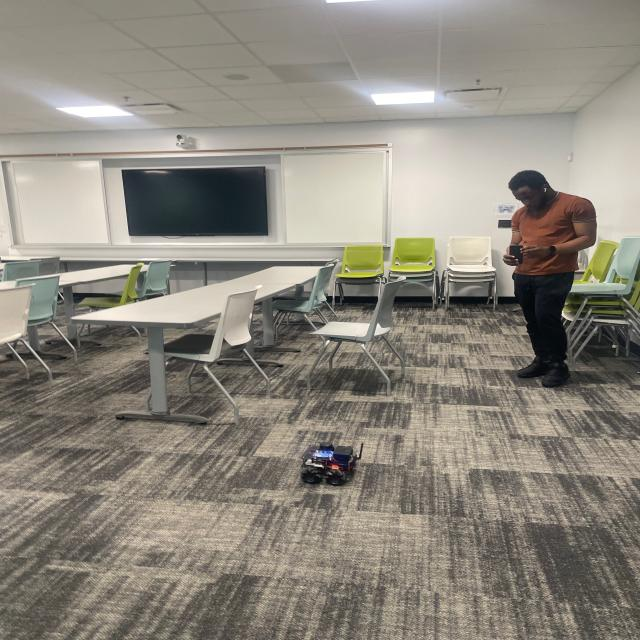ArduinoCar: (296, 436, 367, 491)
